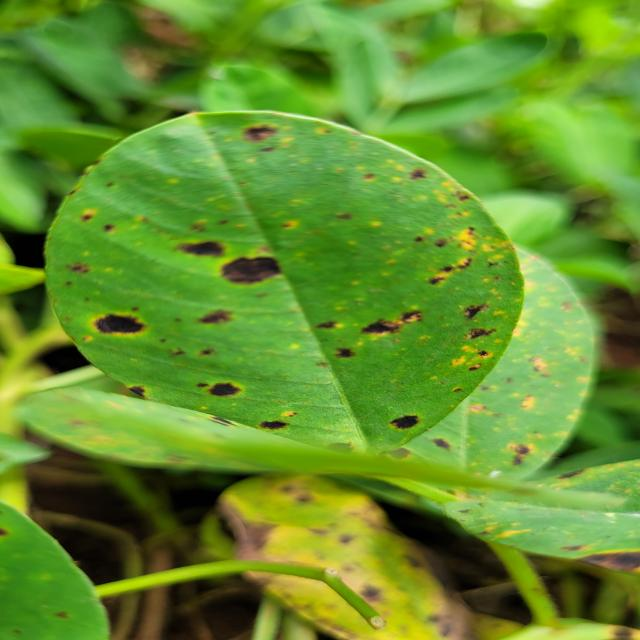Ground nut_tikka leaf spot: (43, 102, 526, 462)
